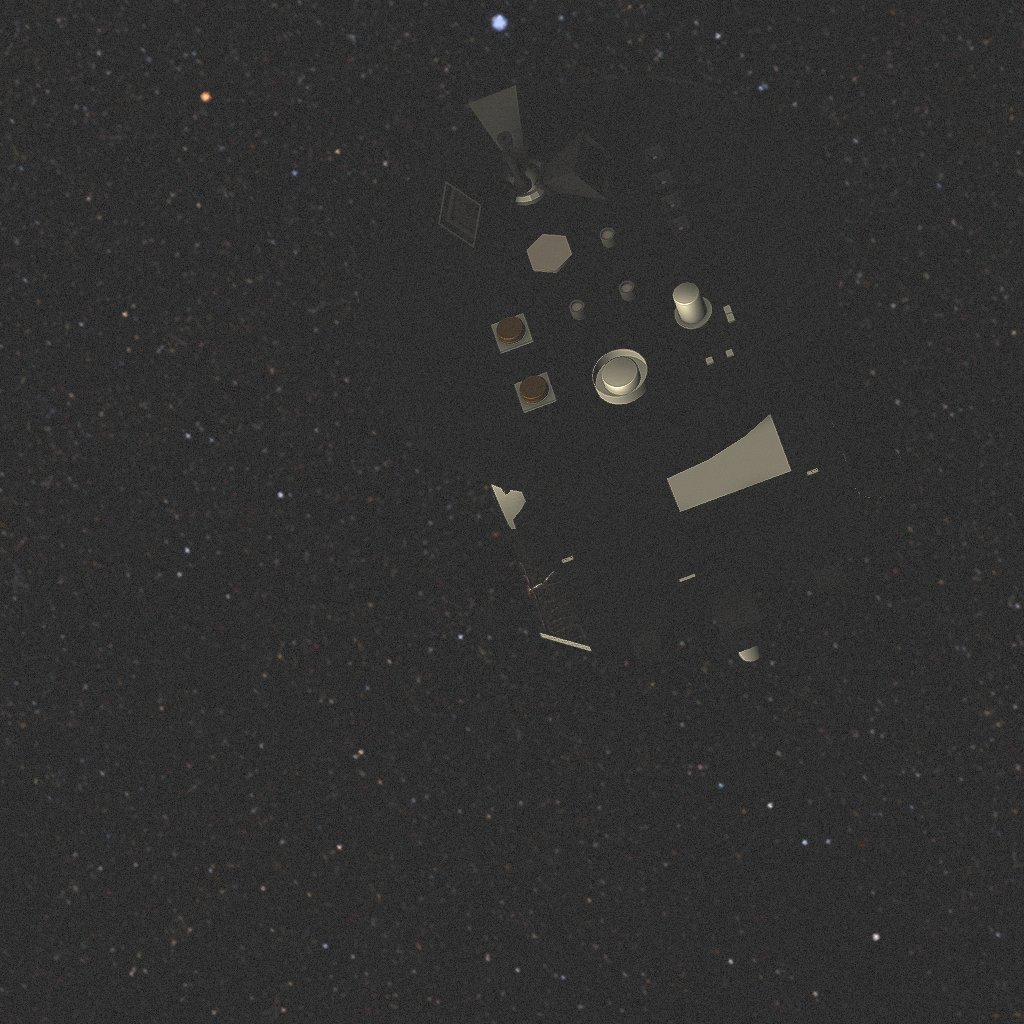proba_3_ocs: (359, 75, 904, 665)
